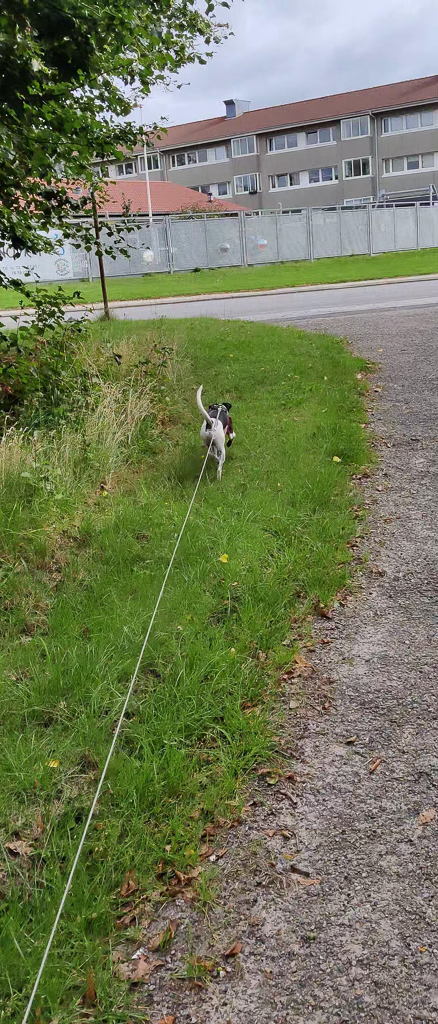Dog: (188, 380, 245, 495)
